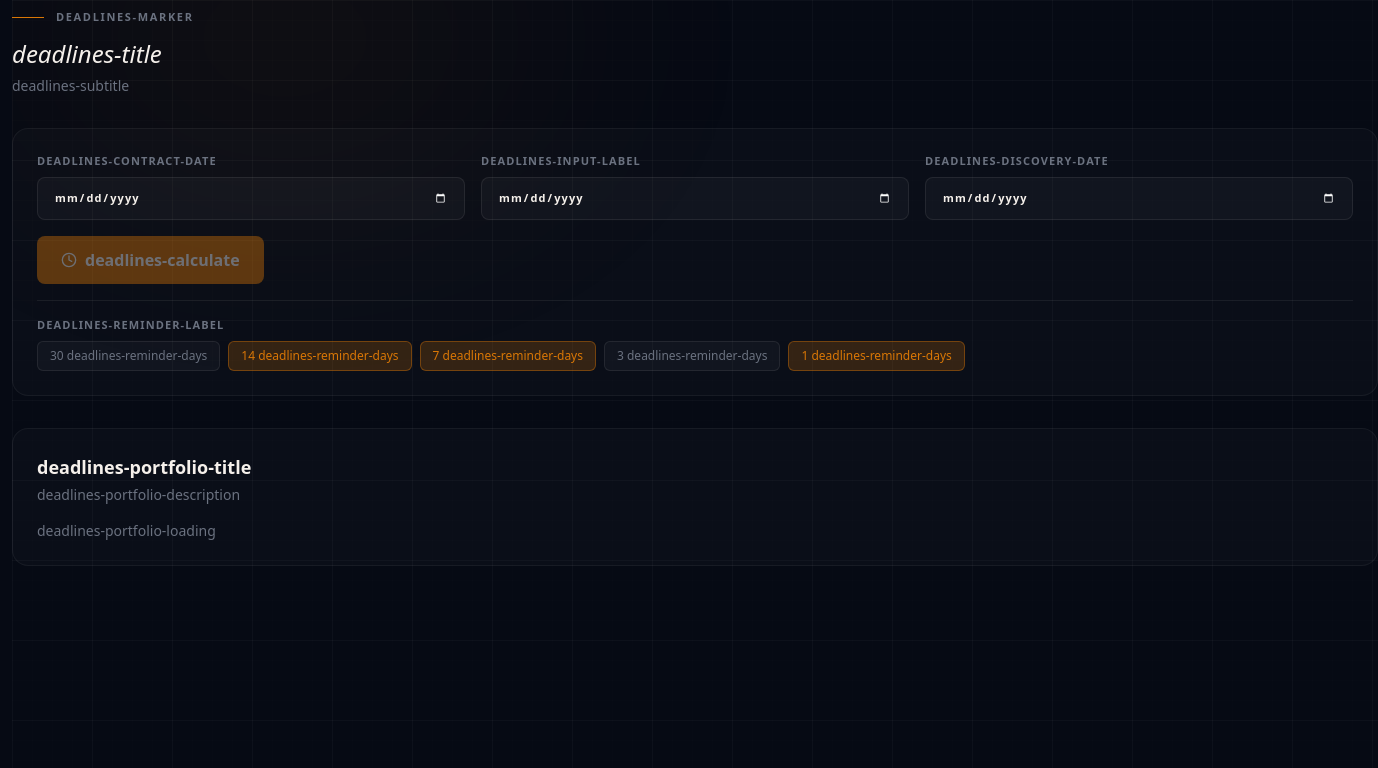
Test: Case deadline portfolio on the deadlines page › exports an event-only portfolio with localized calendar copy when no reminders are selected
Click the button "14 deadlines-reminder-days".
click(320, 356)  # box [228,341,412,371]
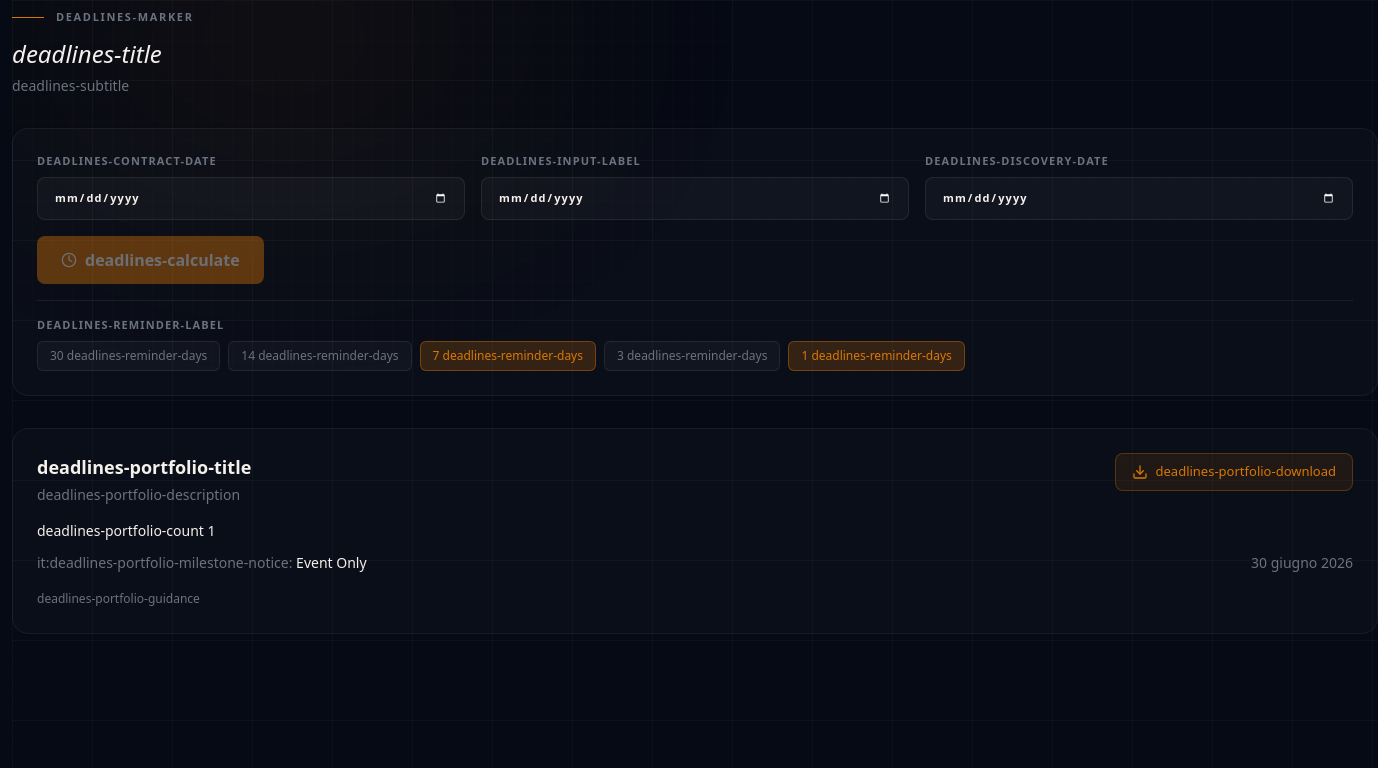
Click the button "7 deadlines-reminder-days".
click(508, 356)  # box [420,341,596,371]
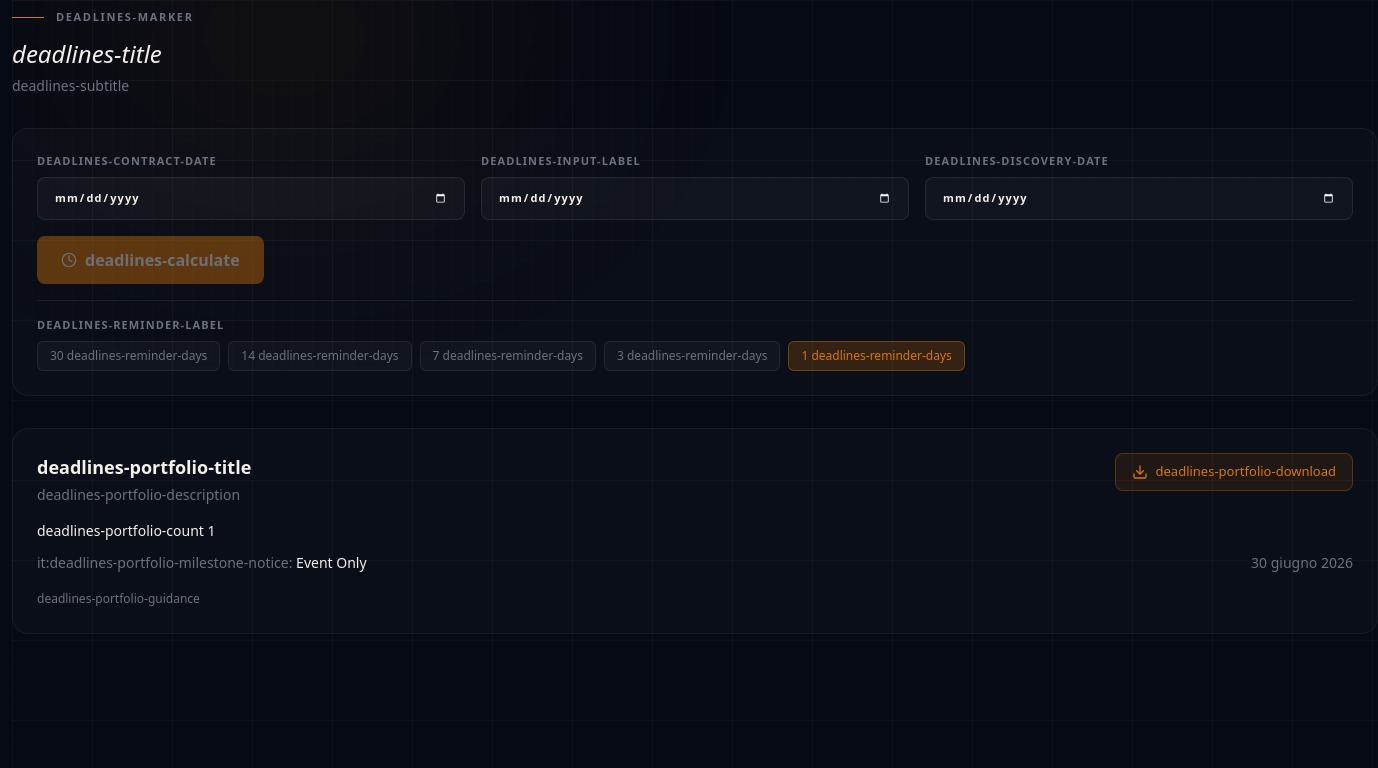
Click the button "1 deadlines-reminder-days".
click(877, 356)  # box [788,341,965,371]
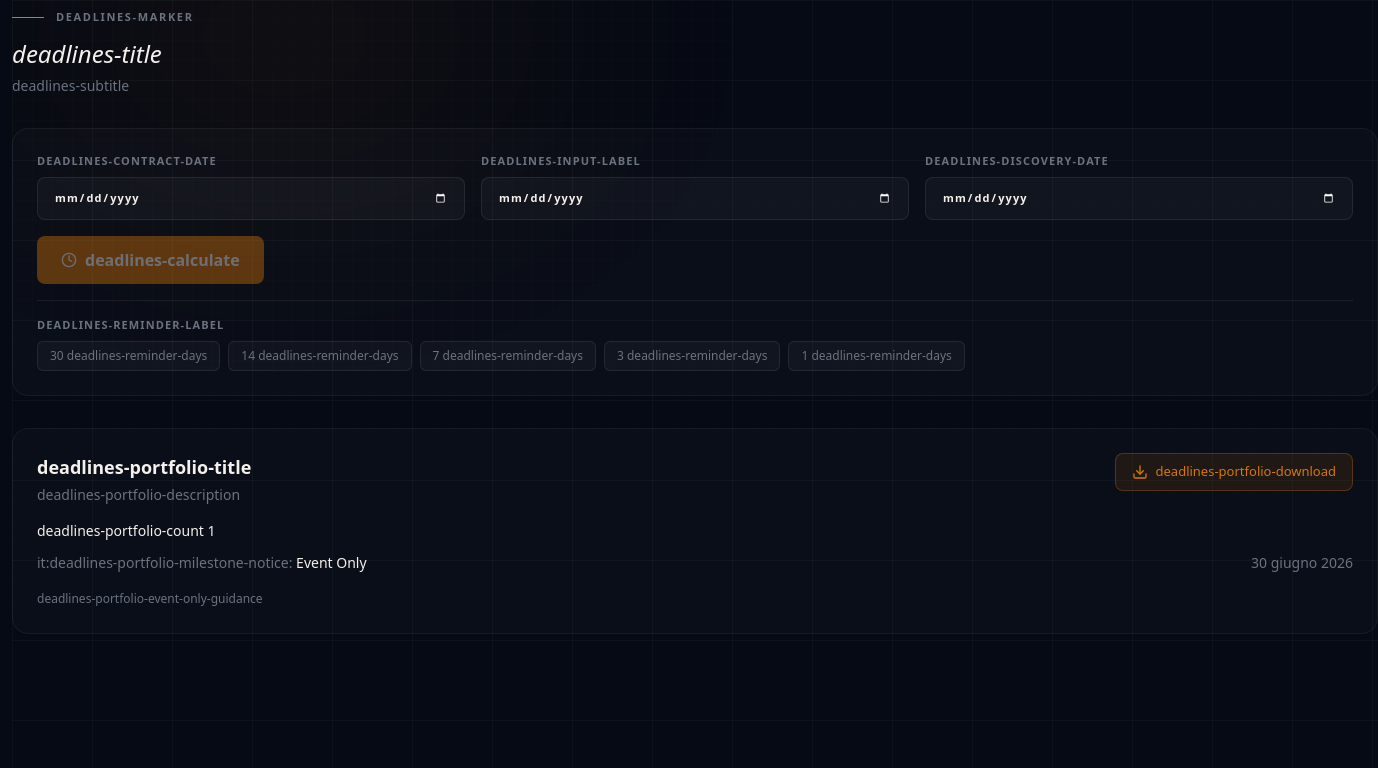
Check: the text "deadlines-portfolio-event-only-guidance" is shown, box [37,590,263,607]
Click the button "deadlines-portfolio-download".
click(1234, 472)  # box [1114,453,1353,491]
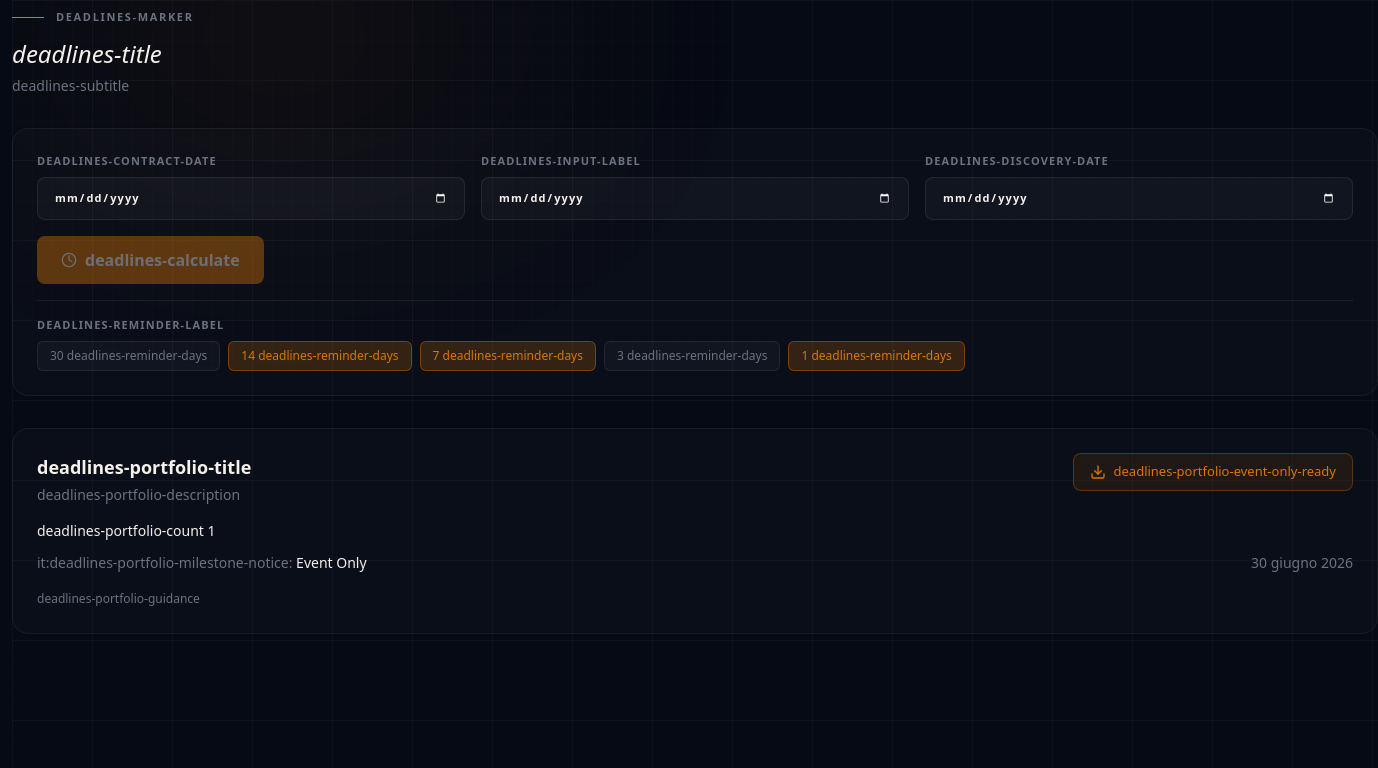
Check: the button "deadlines-portfolio-event-only-ready" is shown, box [1072,453,1353,491]
